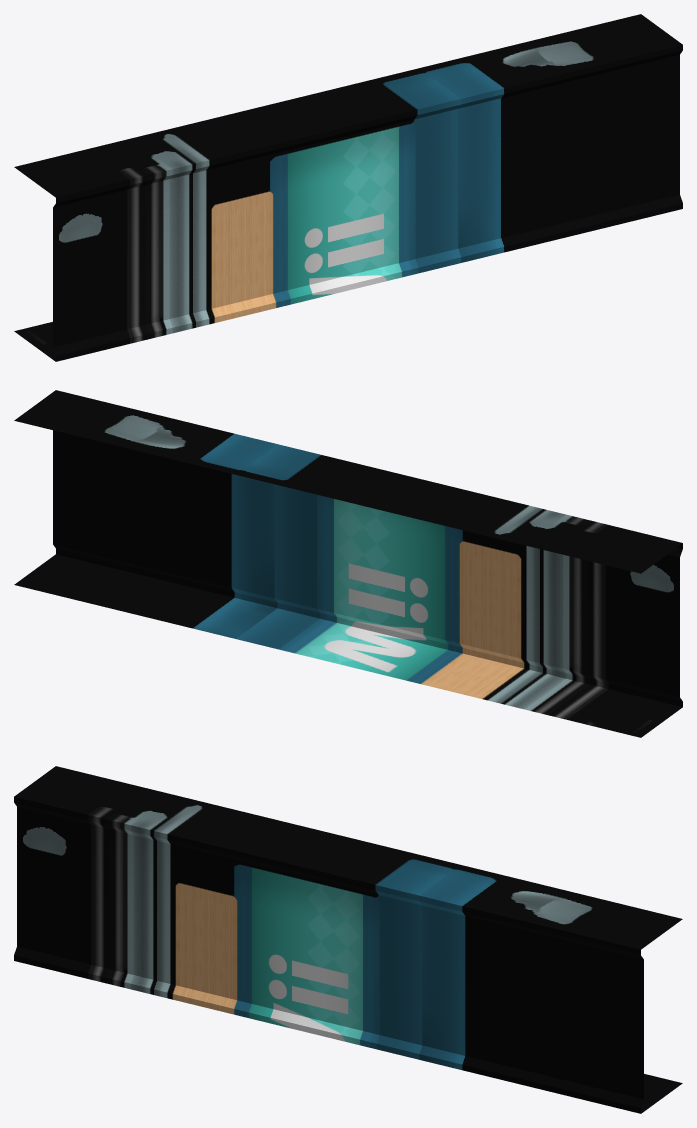
File: BL_Board.fbx
3 views of the same model, one above another, from view 1: azimuth 30°, elevation 25°; view 2: azimuth 150°, elevation 25°; view 3: azimuth 330°, elevation 25° (orthographic).
Visible parts, largest first — view 1: Lane_Board; view 2: Lane_Board; view 3: Lane_Board.
Part boxes in pixels (x1,y1,x2,y2): Lane_Board: [14, 14, 682, 361]; Lane_Board: [14, 390, 682, 737]; Lane_Board: [14, 766, 682, 1113].
Size of the model in its own units: 796 by 199 by 92.22.
